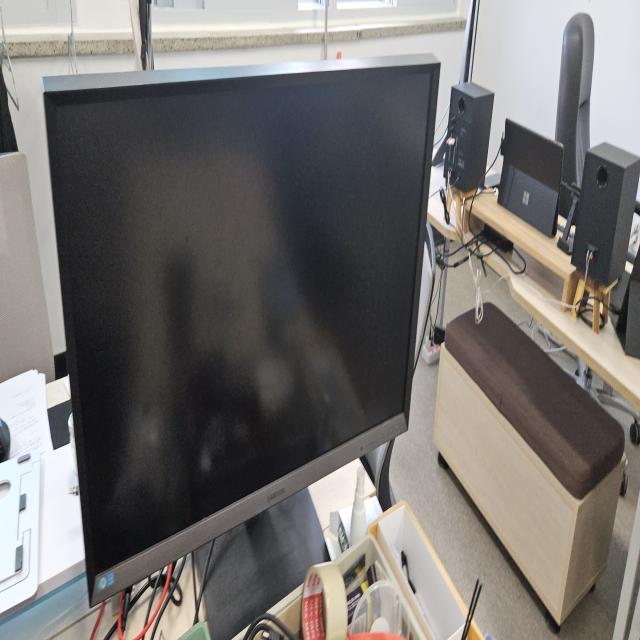Monitor: (39, 51, 442, 607)
